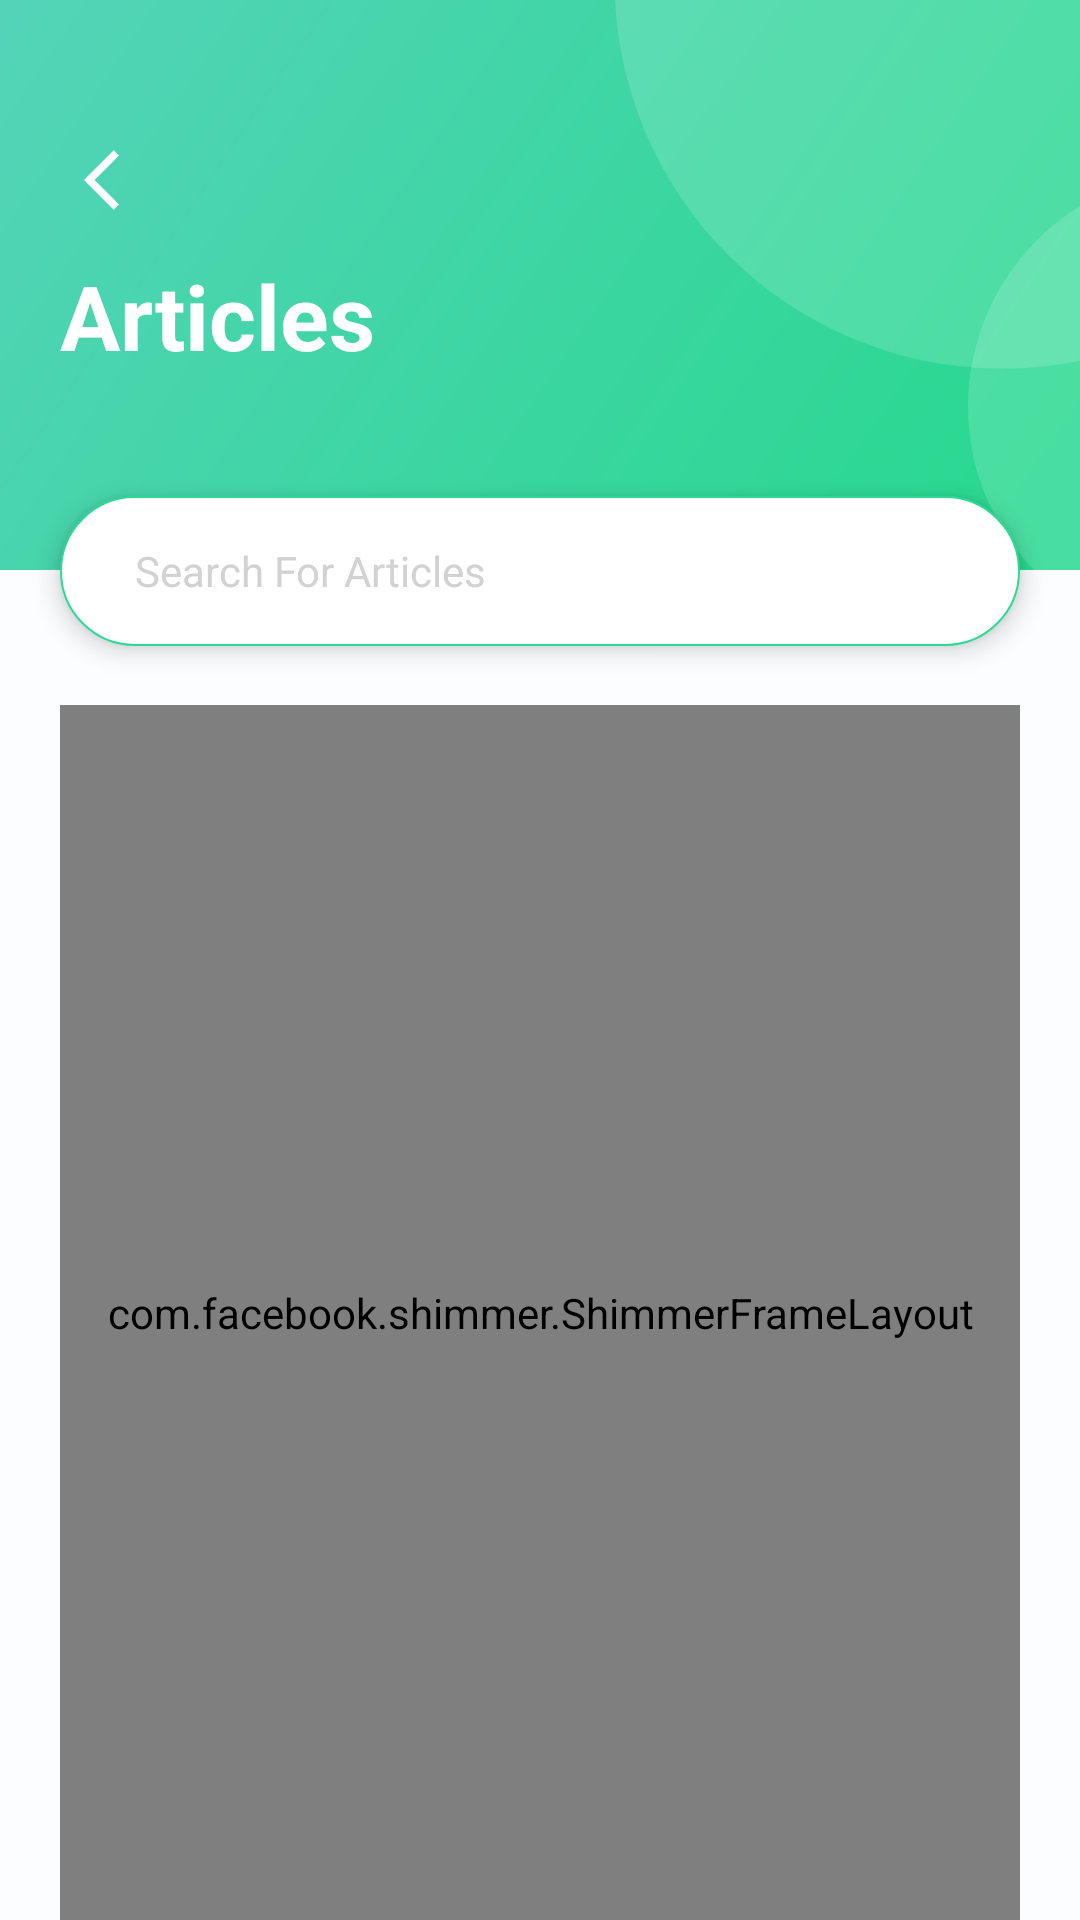

Where to tap for icons on this 1080*1920 app screen, as [x,y]:
back: [101,180]
